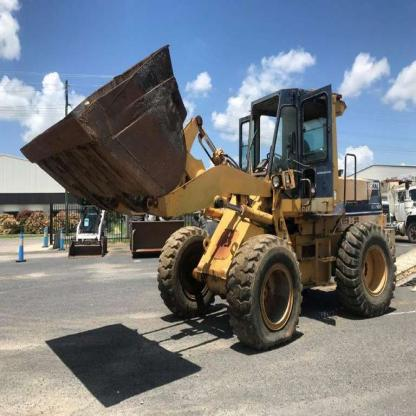bull_dozer/loader/grader: (12, 29, 413, 350)
